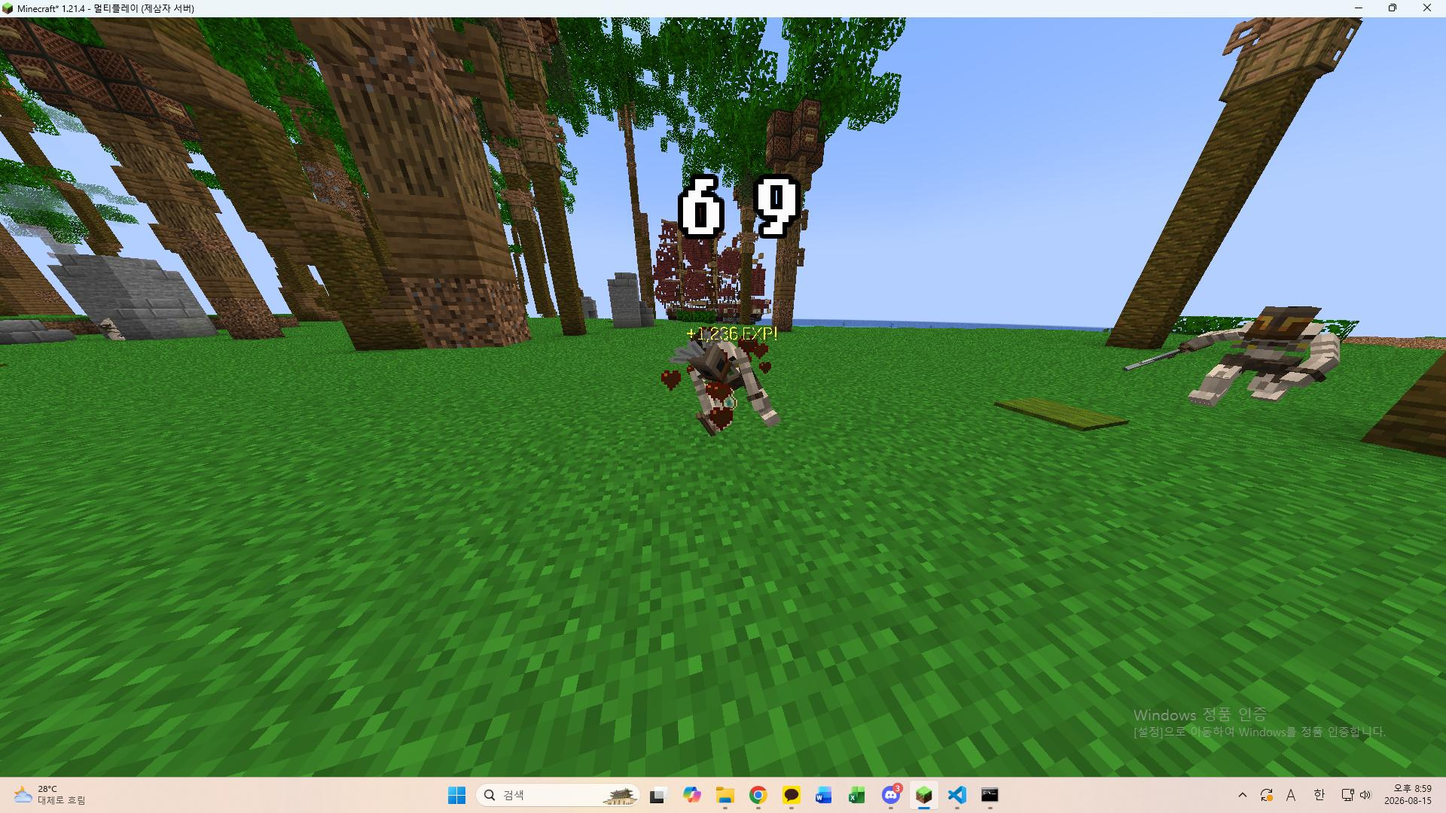bow_indian: (656, 329, 828, 451)
